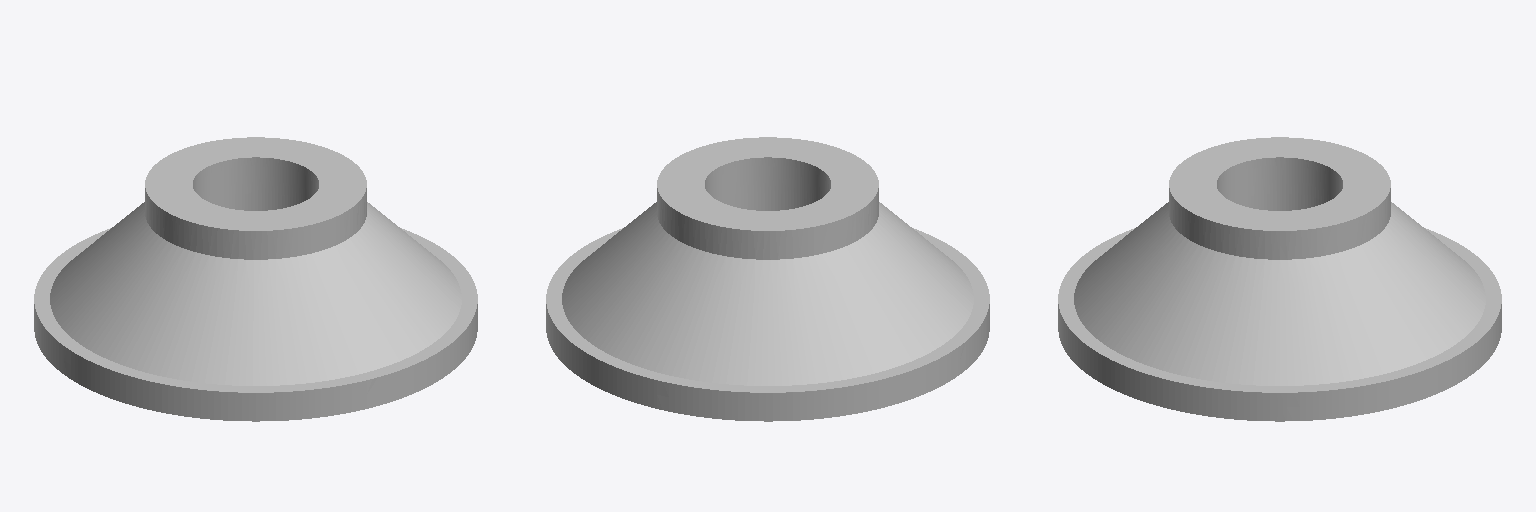
The model's file is gear_spacer_2x.obj.
3 renders of one model, left to right at view 1: azimuth 30°, elevation 25°; view 2: azimuth 150°, elevation 25°; view 3: azimuth 270°, elevation 25°, orthographic.
Visible parts, largest first — view 1: gear_spacer_2x; view 2: gear_spacer_2x; view 3: gear_spacer_2x.
Part boxes in pixels (x1,y1,x2,y2): gear_spacer_2x: (34, 137, 477, 421); gear_spacer_2x: (546, 137, 989, 421); gear_spacer_2x: (1058, 137, 1501, 421).
Size of the model in its own units: 28 by 10 by 28.